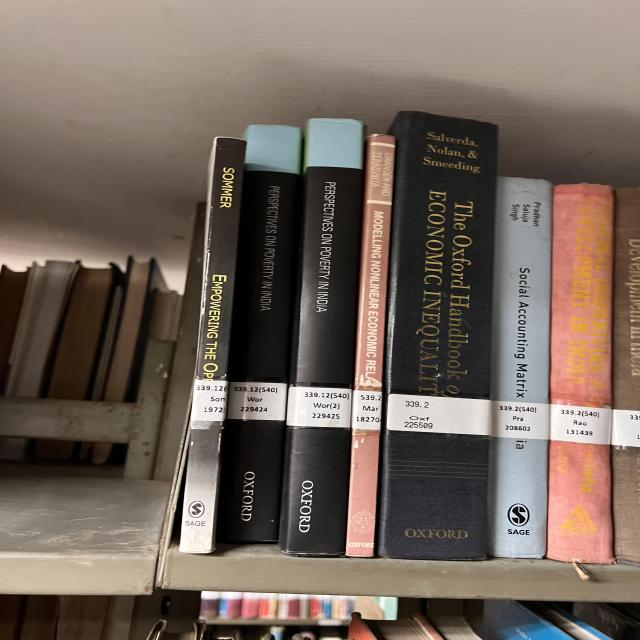Book: (377, 111, 498, 560), (278, 120, 363, 556), (217, 125, 300, 542), (178, 138, 247, 554), (547, 184, 613, 564), (488, 178, 552, 559), (345, 135, 395, 556)
Label: (387, 394, 492, 435), (287, 386, 352, 428), (550, 404, 612, 445), (227, 382, 287, 421), (492, 401, 550, 440), (190, 380, 228, 421), (352, 390, 382, 430)
